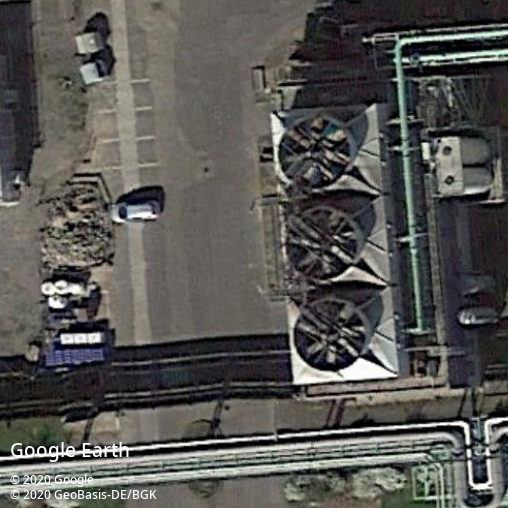Vent: (277, 116, 355, 193), (284, 206, 361, 284), (291, 298, 369, 375)
